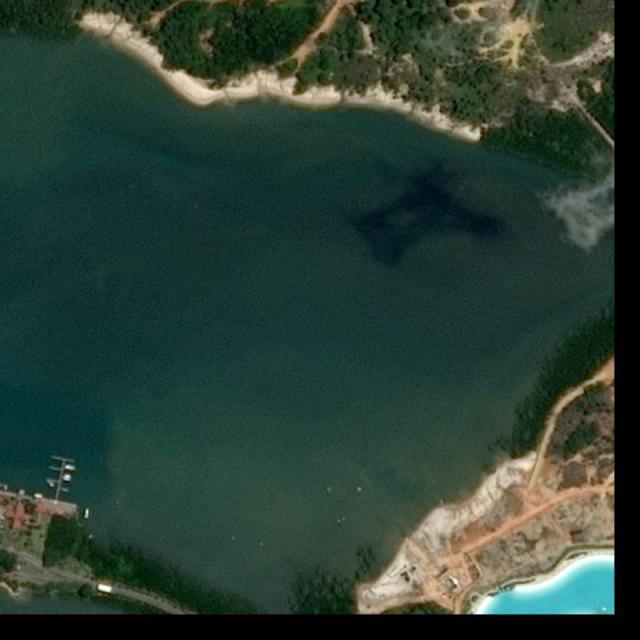ship: (64, 463, 79, 473), (62, 474, 73, 483), (83, 508, 90, 520), (34, 494, 43, 498)
